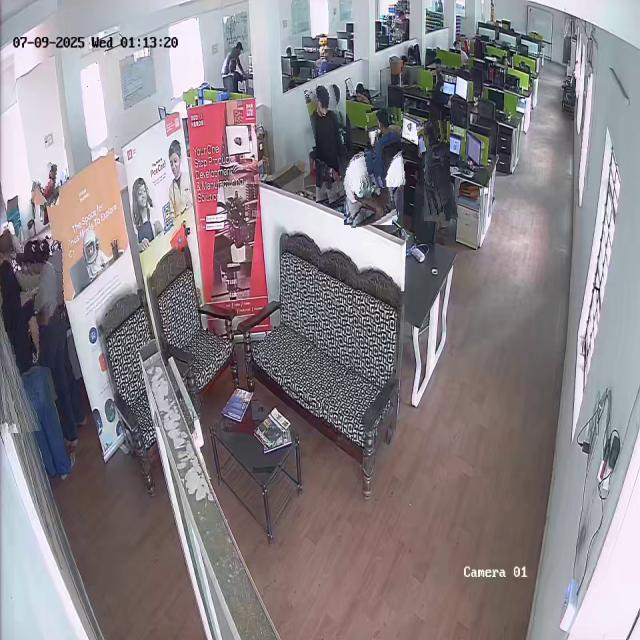person: (0, 252, 37, 432), (23, 238, 70, 367), (310, 83, 352, 204), (341, 149, 395, 227), (420, 121, 454, 221), (368, 107, 404, 188), (34, 161, 61, 206)
